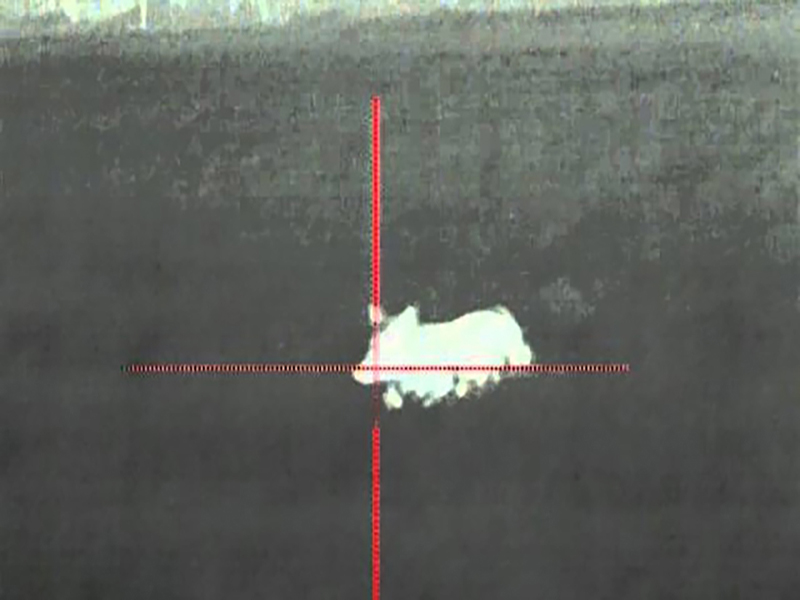cinghiale: (358, 300, 541, 409)
